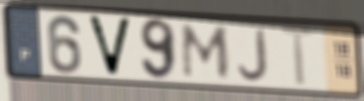6: (44, 12, 83, 76)
9: (137, 16, 178, 84)
J: (236, 26, 270, 84)
M: (181, 22, 232, 81)
T: (277, 23, 322, 90)
V: (84, 13, 135, 79)
